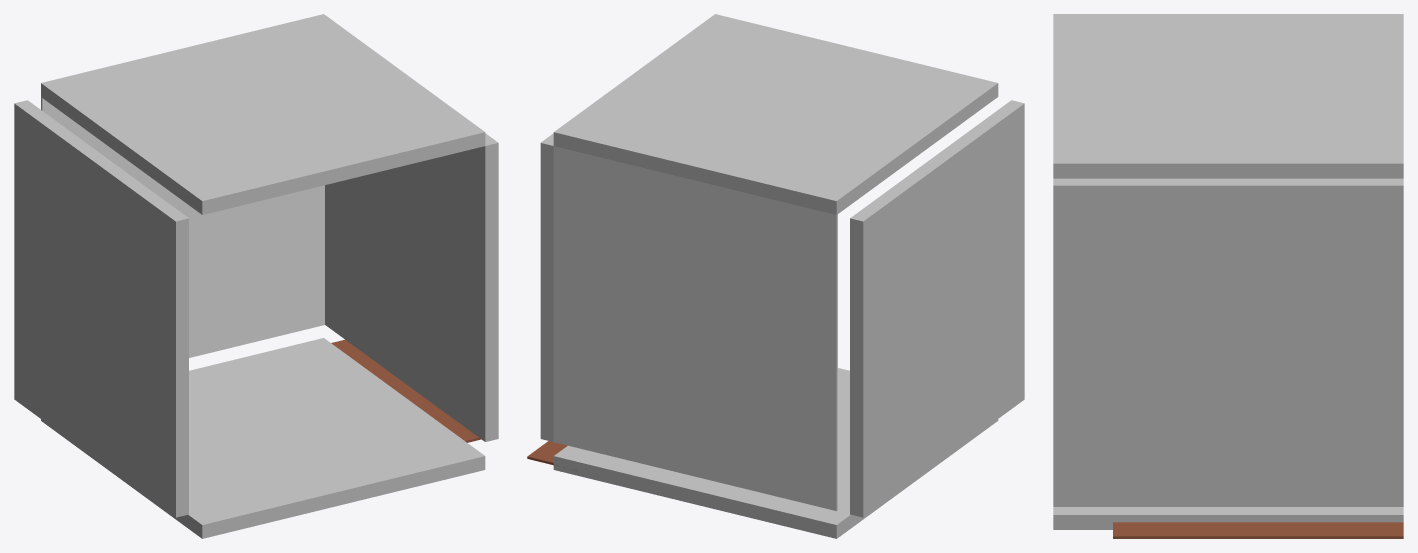
The model's file is apartment_model.obj.
The picture shows the model from 3 angles, left to right: view 1: azimuth 30°, elevation 25°; view 2: azimuth 150°, elevation 25°; view 3: azimuth 270°, elevation 25°; orthographic projection. The views are drawn at different scales.
Parts seen in each view (by area): view 1: Wall_West, Wall_North, Wall_East, Wall_South, Floor, Door_Panel; view 2: Floor, Wall_West, Wall_North, Wall_South, Wall_East; view 3: Wall_East, Wall_North, Wall_South, Door_Panel.
Boxes of the visible parts, x1,y1,x2,y2 form: Wall_West: (14,100,188,517); Wall_North: (41,14,485,214); Wall_East: (325,133,498,441); Wall_South: (41,338,485,538); Floor: (41,97,324,357); Door_Panel: (331,339,481,442); Floor: (553,146,837,511); Wall_West: (850,100,1024,517); Wall_North: (553,14,998,214); Wall_South: (553,368,998,538); Wall_East: (540,133,553,441); Wall_East: (1053,178,1403,506); Wall_North: (1053,14,1403,178); Wall_South: (1053,507,1403,529); Door_Panel: (1113,522,1403,538).
Size of the model in its own units: 3.04 by 2.92 by 2.53.
